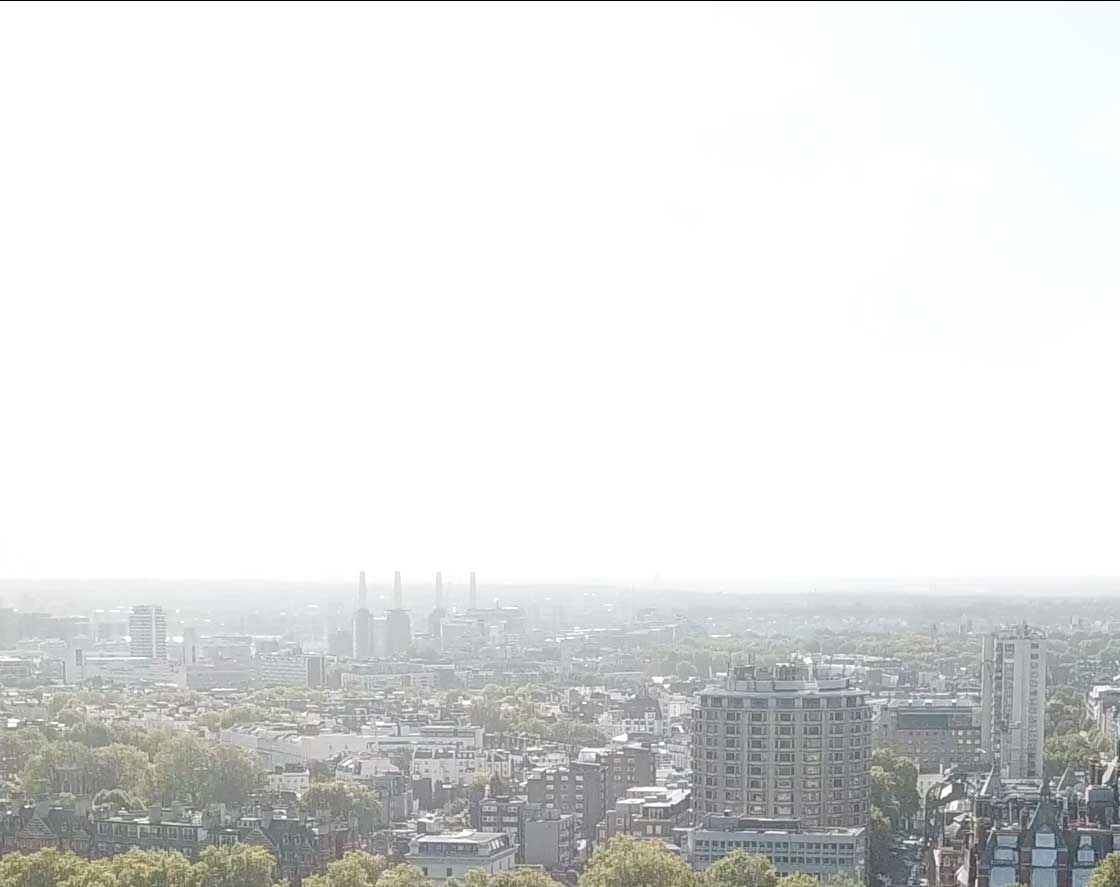building: (682, 645, 882, 887), (976, 626, 1056, 803)
trees: (8, 716, 264, 808)
